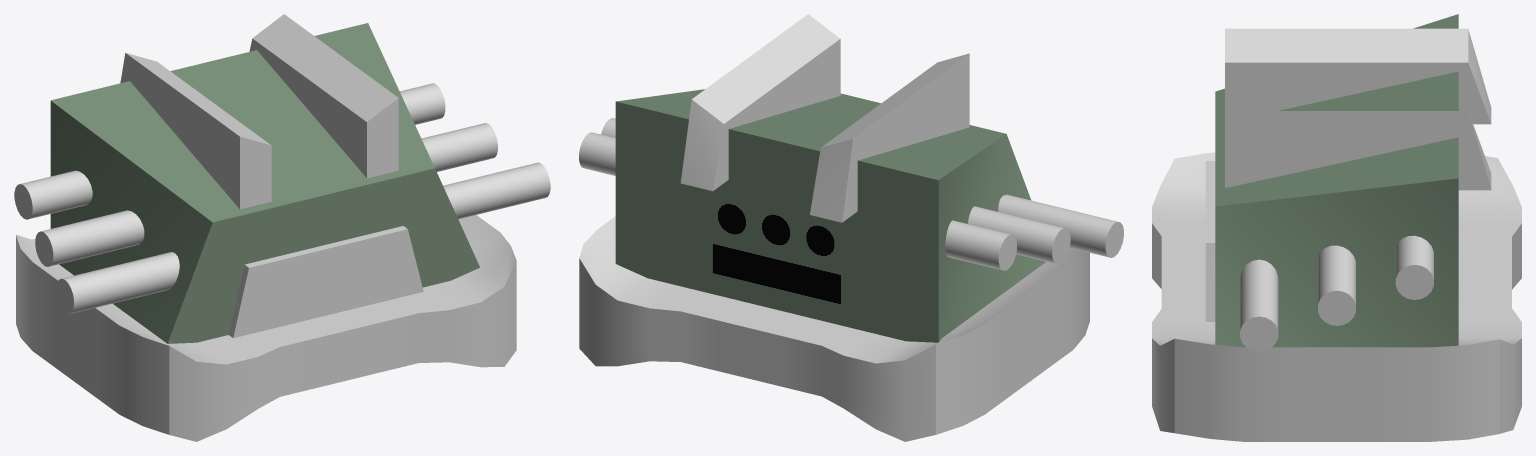
Rendered from mayan_hat2.fbx.
The picture shows the model from 3 angles, left to right: view 1: azimuth 30°, elevation 25°; view 2: azimuth 150°, elevation 25°; view 3: azimuth 270°, elevation 25°; orthographic projection. The views are drawn at different scales.
Parts seen in each view (by area): view 1: Box042, hat004, Box043, Box044, Box045, Cylinder021, Cylinder020, Cylinder022; view 2: Box042, hat004, Box044, Box045, Cylinder022, Cylinder021, Cylinder020; view 3: hat004, Box042, Box045, Box044, Cylinder021, Cylinder020, Cylinder022, Box043.
Boxes of the visible parts, left/top/right/bottom form: Box042: left=50, top=23, right=479, bottom=343; hat004: left=16, top=215, right=516, bottom=441; Box043: left=228, top=226, right=423, bottom=338; Box044: left=249, top=14, right=398, bottom=178; Box045: left=120, top=53, right=271, bottom=209; Cylinder021: left=56, top=162, right=550, bottom=314; Cylinder020: left=35, top=123, right=497, bottom=266; Cylinder022: left=14, top=83, right=445, bottom=219; Box042: left=615, top=89, right=1045, bottom=342; hat004: left=579, top=216, right=1089, bottom=441; Box044: left=680, top=14, right=840, bottom=191; Box045: left=810, top=53, right=969, bottom=222; Cylinder022: left=579, top=132, right=1016, bottom=270; Cylinder021: left=998, top=194, right=1123, bottom=257; Cylinder020: left=601, top=118, right=1070, bottom=264; hat004: left=1152, top=152, right=1521, bottom=441; Box042: left=1215, top=14, right=1458, bottom=347; Box045: left=1225, top=28, right=1491, bottom=124; Box044: left=1225, top=111, right=1491, bottom=190; Cylinder021: left=1240, top=259, right=1278, bottom=351; Cylinder020: left=1318, top=245, right=1355, bottom=325; Cylinder022: left=1395, top=235, right=1433, bottom=299; Box043: left=1205, top=161, right=1215, bottom=321.
Bounding box in the file's own units: 152 × 80.99 × 96.52.
